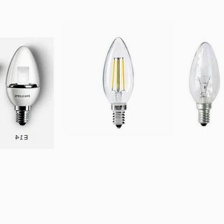light_bulb: (99, 31, 137, 130), (1, 42, 44, 127), (186, 38, 221, 127)
